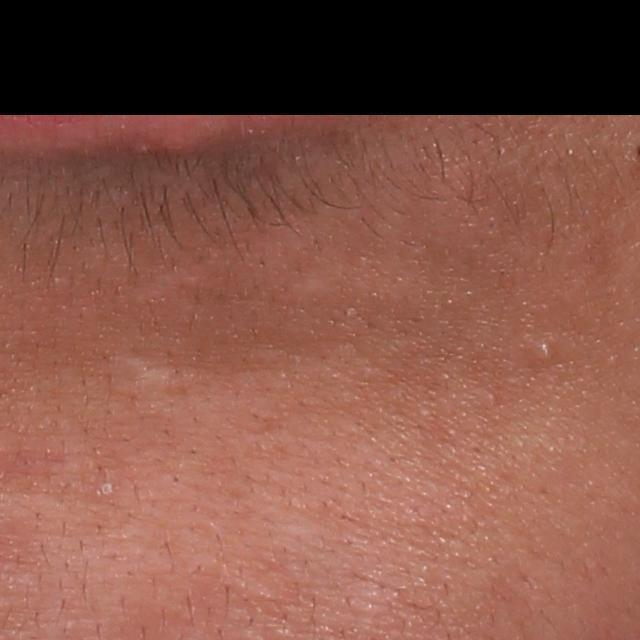hypertrophic_scar: (124, 362, 182, 418), (286, 266, 332, 306)
